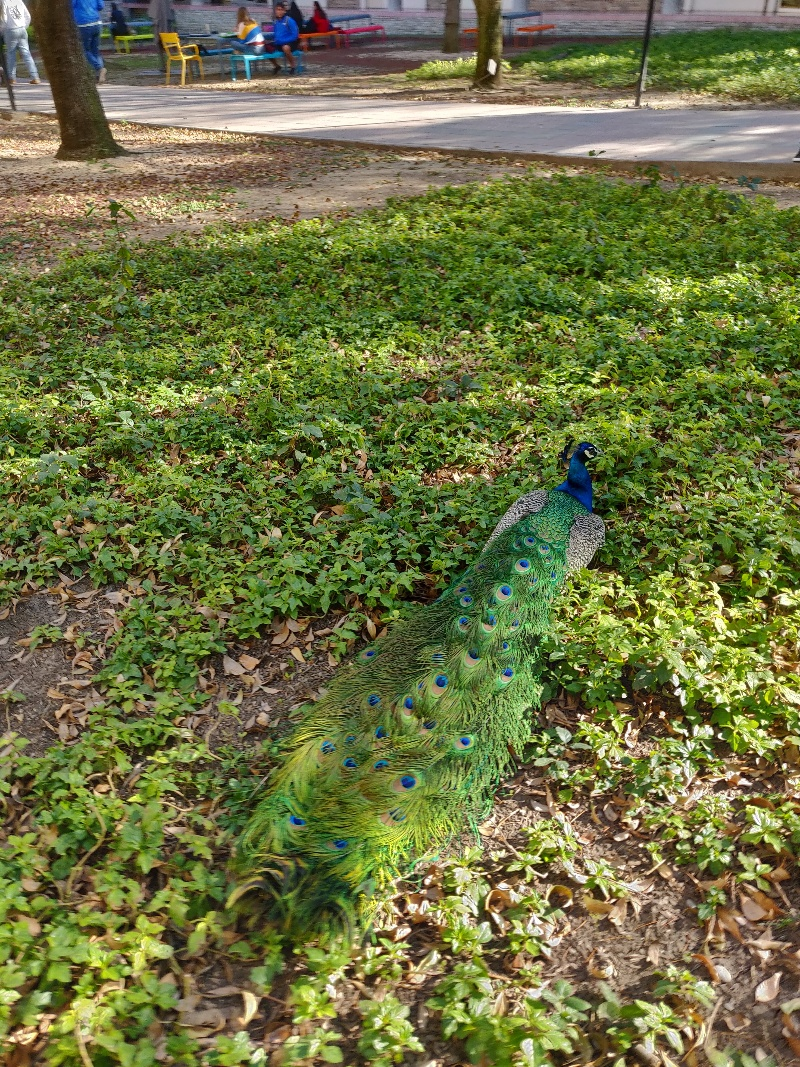pavoreal: (500, 438, 603, 596)
